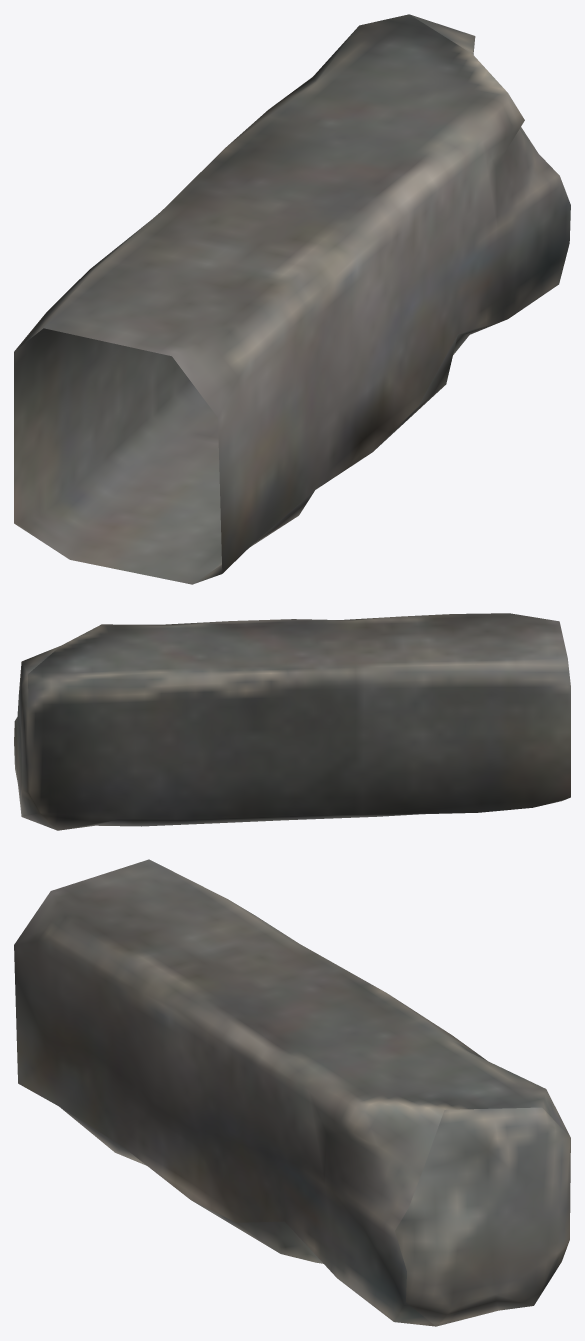
Rendered from Rock_A18.fbx.
3 renders of one model, top to bottom at view 1: azimuth 30°, elevation 25°; view 2: azimuth 150°, elevation 25°; view 3: azimuth 270°, elevation 25°, orthographic. The views are drawn at different scales.
Parts seen in each view (by area): view 1: Rock_A18__5_; view 2: Rock_A18__5_; view 3: Rock_A18__5_.
Part boxes in pixels (x1,y1,x2,y2): Rock_A18__5_: (14, 14, 570, 584); Rock_A18__5_: (14, 613, 570, 830); Rock_A18__5_: (14, 859, 570, 1326).
Bounding box in the file's own units: 0.3491 × 0.1103 × 0.2836.
